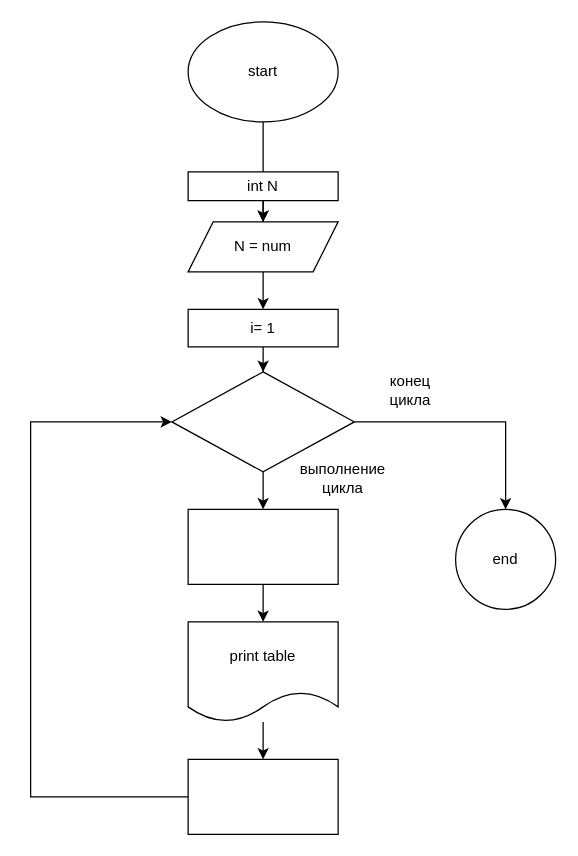
Image size: 578x856. Some labels were removed from this diagram. Here are the shapes that lost their labels. From the top down, the centre of each, then its label:
At [262,421]: "i<=N".
At [262,546]: "int squ = i * i".
At [262,796]: "i++".
